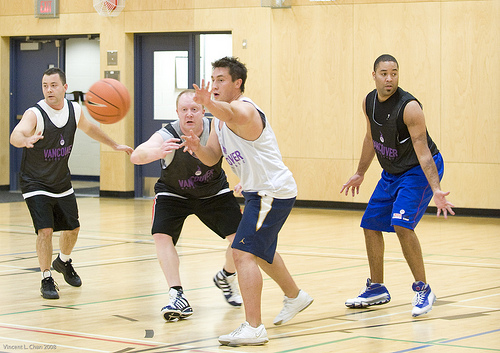basketball: (86, 76, 132, 124)
